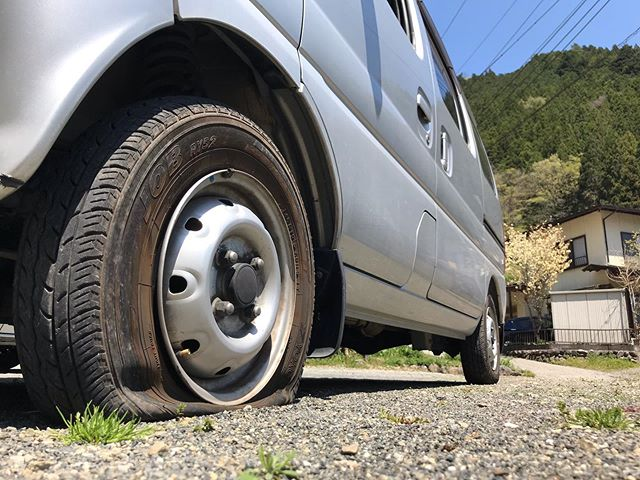building: (521, 206, 640, 358)
car: (1, 1, 558, 399)
tree: (502, 225, 573, 329)
vegetation: (466, 52, 640, 198)
